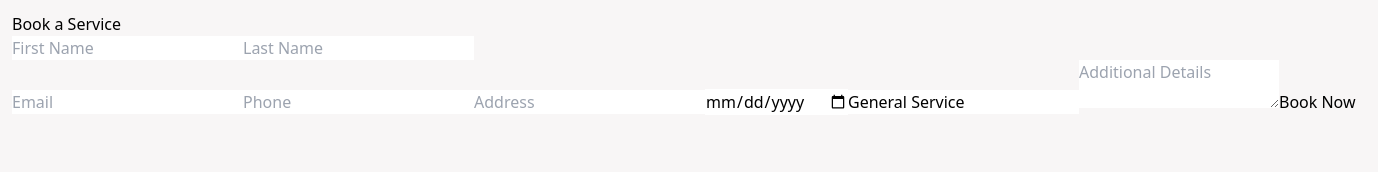
BookingModal › shows error message on failed submission
// Fill required fields
Step 1. Type "John" into the field with placeholder "First Name" → (128, 48), box [12,36,243,60]
Step 2. Type "Doe" into the field with placeholder "Last Name" → (358, 48), box [243,36,474,60]
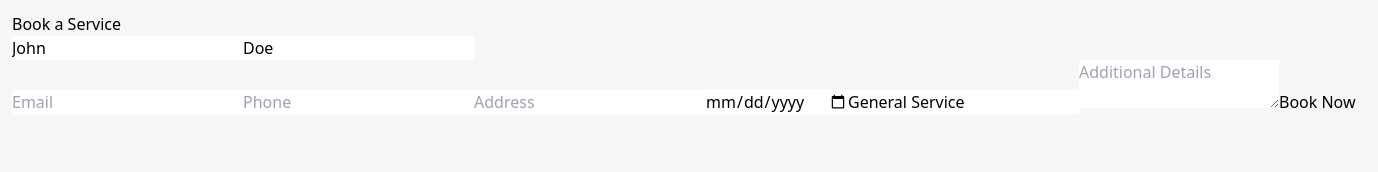
Step 3. Type "john@example.com" into the field with placeholder "Email" → (128, 102), box [12,90,243,114]
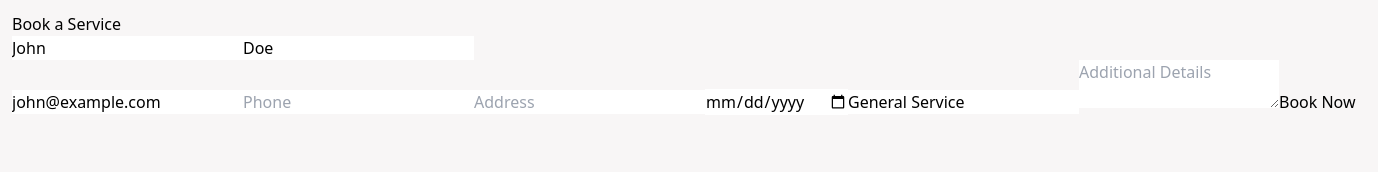
Step 4. Type "1234567890" into the field with placeholder "Phone" → (358, 102), box [243,90,474,114]
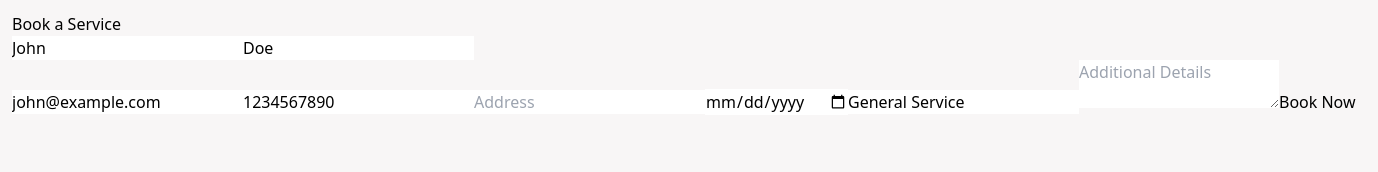
Step 5. Type "123 Main St" into the field with placeholder "Address" → (590, 102), box [474,90,705,114]
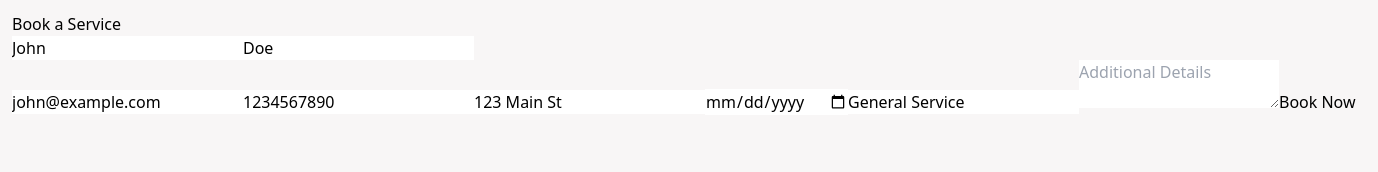
Step 6. Type "2024-12-25" into the date field → (776, 102), box [705,89,848,115]
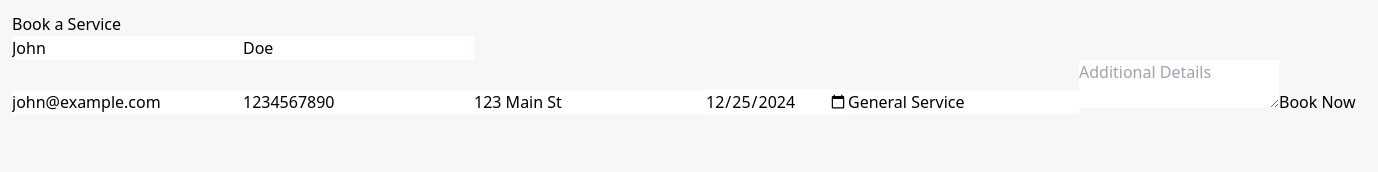
Step 7. Submit the form, box [12,36,1377,115]
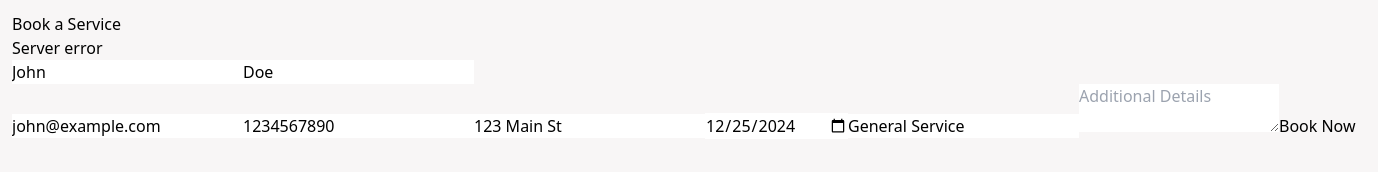
Check: the text "Server error" is shown, box [12,37,102,59]
